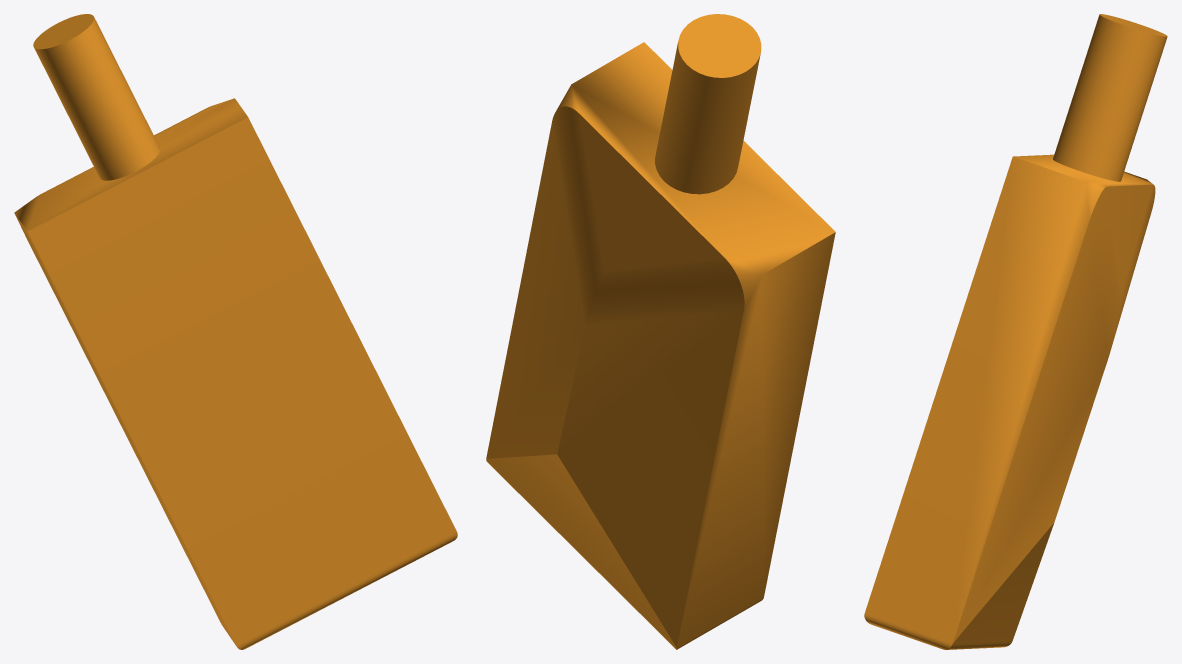
File: Bat.glb
3 renders of one model, left to right at view 1: azimuth 30°, elevation 25°; view 2: azimuth 150°, elevation 25°; view 3: azimuth 270°, elevation 25°, orthographic. The views are drawn at different scales.
Parts seen in each view (by area): view 1: cricket bat; view 2: cricket bat; view 3: cricket bat.
Part boxes in pixels (box(x1,y1,x2,y2)): cricket bat: box(14, 14, 457, 649); cricket bat: box(486, 14, 835, 649); cricket bat: box(864, 14, 1167, 649).
Bounding box in the file's own units: 7.01 × 11.17 × 5.24.
